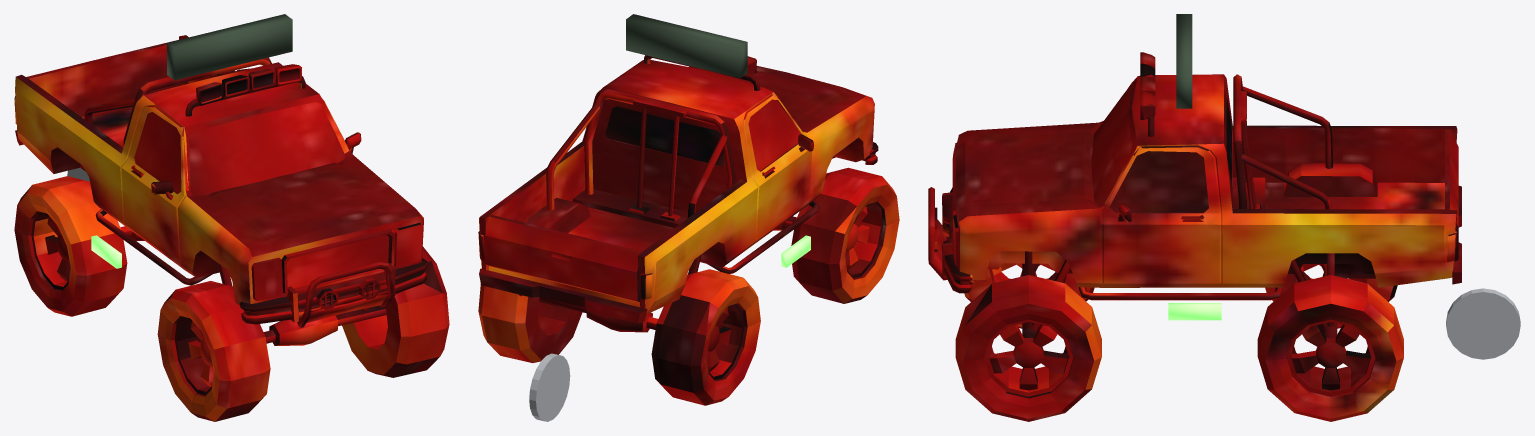
Rendered from razorback.glb.
3 renders of one model, left to right at view 1: azimuth 30°, elevation 25°; view 2: azimuth 150°, elevation 25°; view 3: azimuth 270°, elevation 25°, orthographic. The views are drawn at different scales.
Visible parts, largest first — view 1: razorback_Body_Monster Truck Orange_TruckMa, razorback_Rollbar, razorback_BladeL; view 2: razorback_Body_Monster Truck Orange_TruckMa, razorback_Rollbar, razorback_Saw, razorback_BladeL; view 3: razorback_Body_Monster Truck Orange_TruckMa, razorback_Saw, razorback_Rollbar, razorback_BladeR.
Boxes of the visible parts, x1,y1,x2,y2 form: razorback_Body_Monster Truck Orange_TruckMa: (14,35,449,421); razorback_Rollbar: (167,14,292,80); razorback_BladeL: (91,235,121,268); razorback_Body_Monster Truck Orange_TruckMa: (478,55,899,405); razorback_Rollbar: (626,14,747,78); razorback_Saw: (529,353,570,421); razorback_BladeL: (781,235,810,267); razorback_Body_Monster Truck Orange_TruckMa: (928,52,1461,421); razorback_Saw: (1446,288,1520,359); razorback_Rollbar: (1176,14,1192,108); razorback_BladeR: (1168,303,1221,320).
Size of the model in its own units: 2.75 by 3.34 by 5.55.
4 materials, 1 textured.
